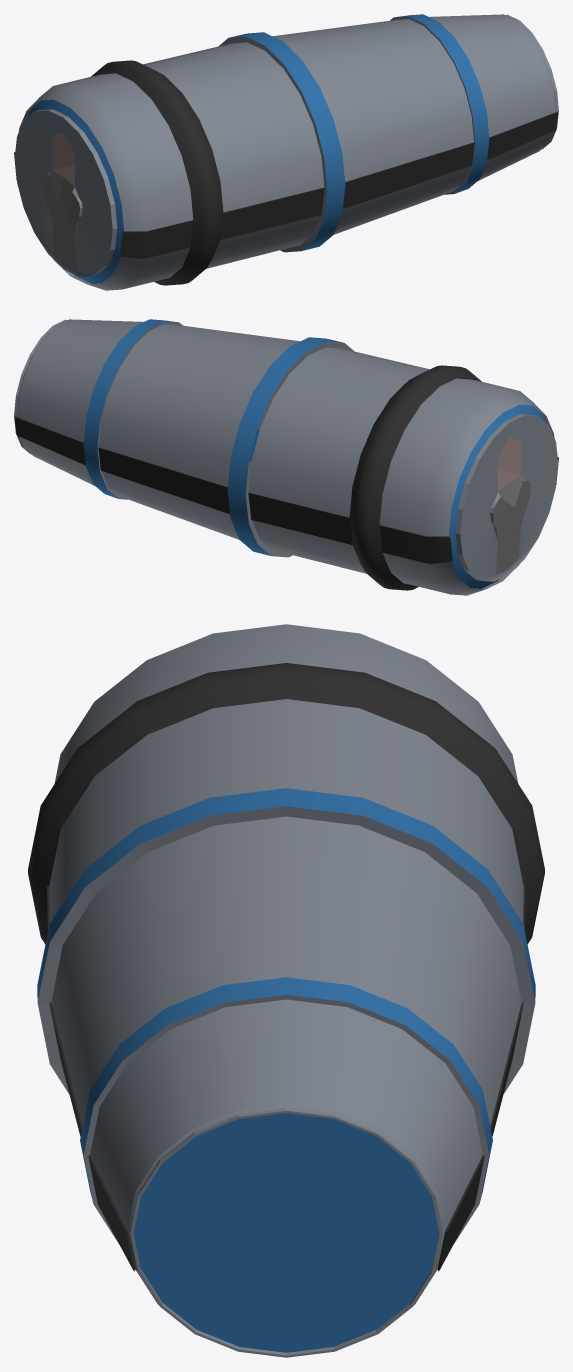
The model's file is pod docking.fbx.
The picture shows the model from 3 angles, top to bottom: view 1: azimuth 30°, elevation 25°; view 2: azimuth 150°, elevation 25°; view 3: azimuth 270°, elevation 25°; orthographic projection. The views are drawn at different scales.
Parts seen in each view (by area): view 1: pCylinder1; view 2: pCylinder1; view 3: pCylinder1.
Part boxes in pixels (x1,y1,x2,y2): pCylinder1: (14, 14, 558, 290); pCylinder1: (14, 319, 558, 595); pCylinder1: (28, 624, 544, 1357).
Bounding box in the file's own units: 14.24 × 6.04 × 6.91.
